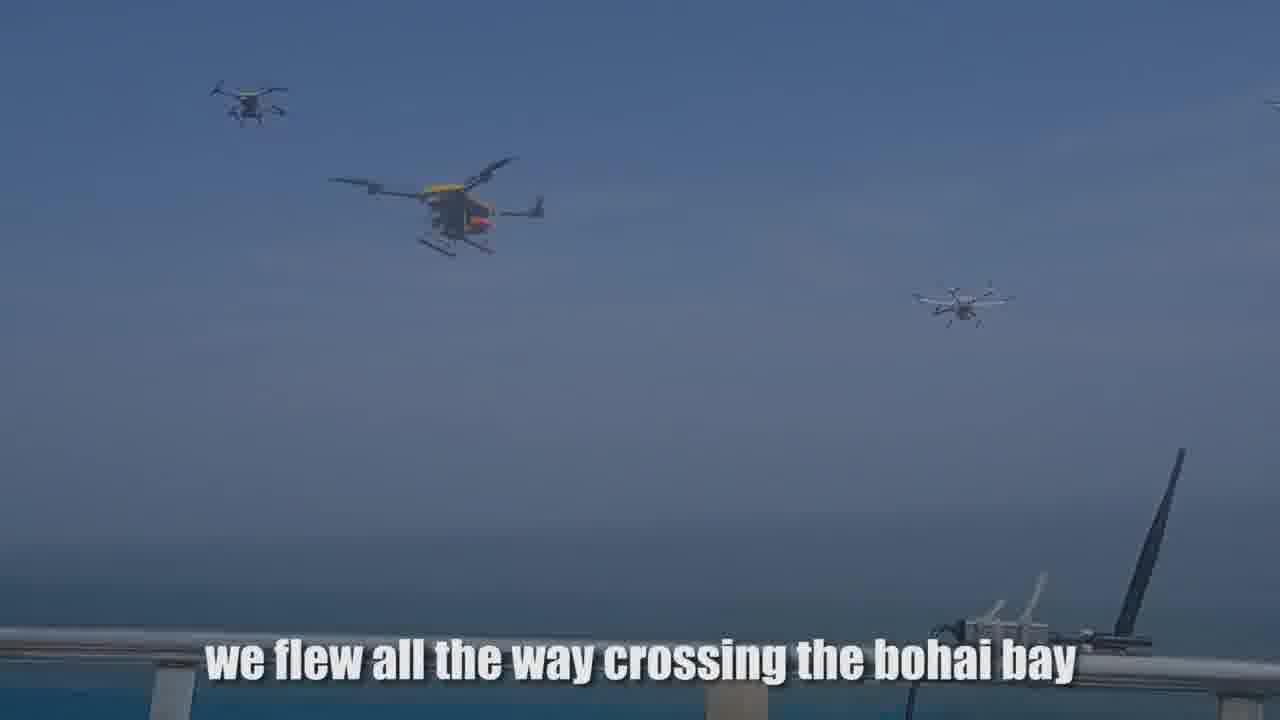drone: (333, 141, 569, 272), (902, 263, 1016, 335), (203, 64, 302, 134)
